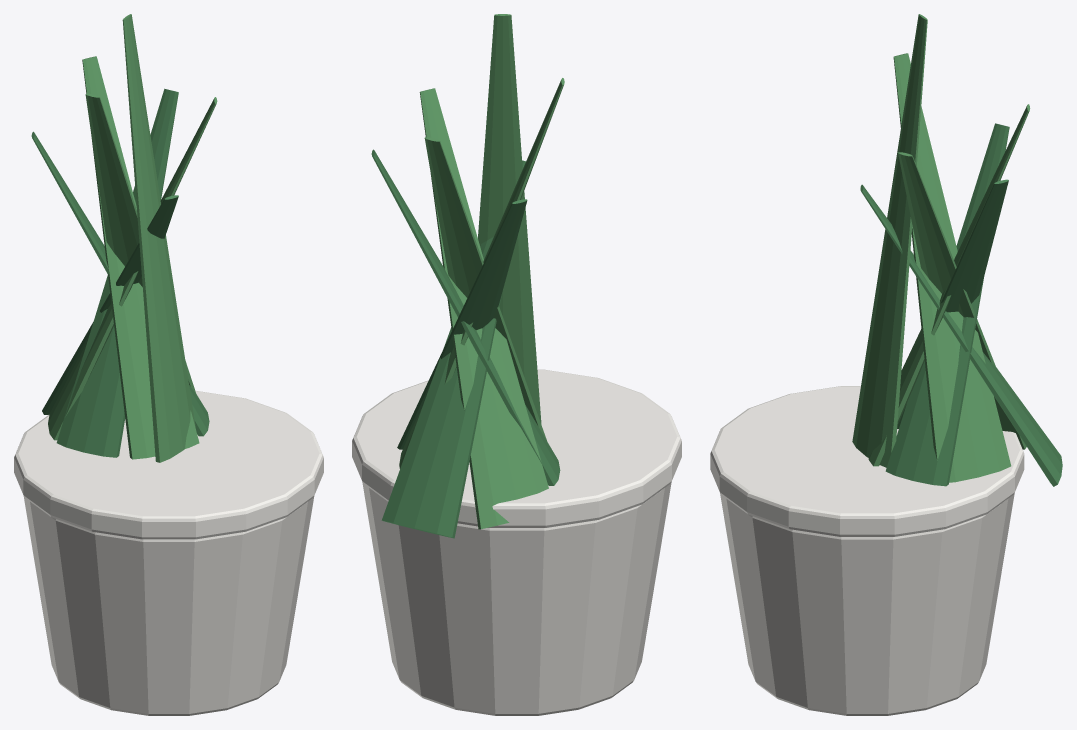
File: plant_desk.glb
The picture shows the model from 3 angles, left to right: view 1: azimuth 30°, elevation 25°; view 2: azimuth 150°, elevation 25°; view 3: azimuth 270°, elevation 25°; orthographic projection. The views are drawn at different scales.
Visible parts, largest first — view 1: Plant_Desk; view 2: Plant_Desk; view 3: Plant_Desk.
Boxes of the visible parts, <box> form: Plant_Desk: <box>14,14,323,715</box>; Plant_Desk: <box>352,14,681,715</box>; Plant_Desk: <box>710,14,1062,715</box>.
Size of the model in its own units: 0.1725 by 0.3965 by 0.1965.
